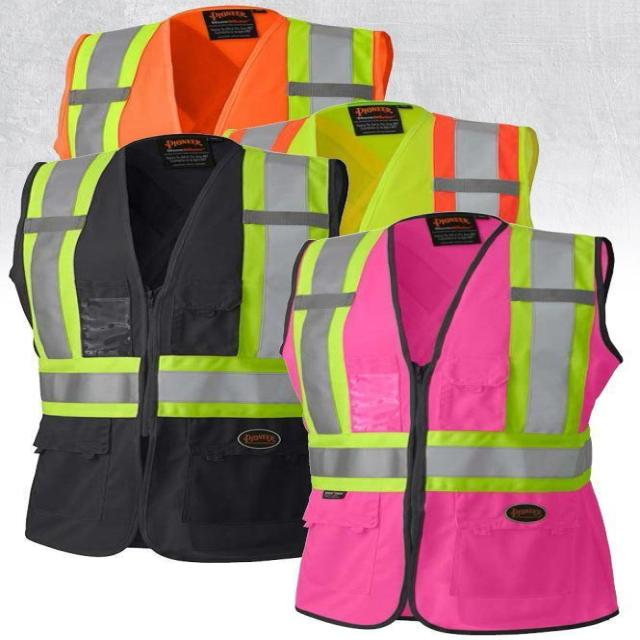Vest: (9, 129, 349, 563), (279, 210, 624, 636), (52, 4, 392, 161), (217, 104, 544, 238)
